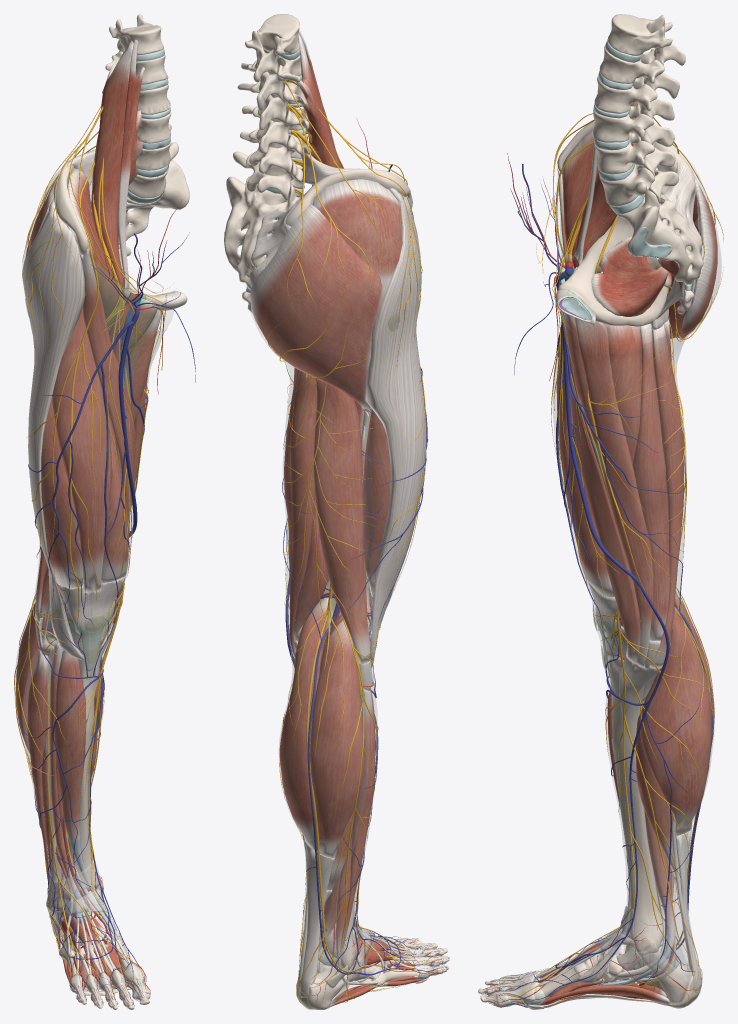
Rendered from lower-limb.glb.
The picture shows the model from 3 angles, left to right: view 1: azimuth 30°, elevation 25°; view 2: azimuth 150°, elevation 25°; view 3: azimuth 270°, elevation 25°; orthographic projection. The views are drawn at different scales.
Parts seen in each view (by area): view 1: Fascia lata.r, Crural fascia.r, Iliotibial tract.r, Rectus femoris.r, Psoas major.r, Tibialis anterior muscle.r, Vastus lateralis muscle.r, Sartorius muscle.r, Fibularis longus muscle.r, Quadriceps common tendon and patellar ligament.r, Femoral triangle.r, Vastus medialis muscle.r (+40 smaller); view 2: Fascia lata.r, Crural fascia.r, Gluteus maximus muscle.r, Iliotibial tract.r, Long head of biceps femoris.r, Lateral head of gastrocnemius.r, Gluteus medius muscle.r, Medial head of gastrocnemius.r, Gluteal aponeurosis.r, Semitendinosus muscle.r, Sacrum, Vastus lateralis muscle.r (+30 smaller); view 3: Fascia lata.r, Crural fascia.r, Medial head of gastrocnemius.r, Gracilis muscle.r, Semimembranosus muscle.r, Tibia.r, Sartorius muscle.r, Semitendinosus muscle.r, Hip bone.r, Obturator internus.r, Sacrum, Adductor magnus.r (+38 smaller).
Part boxes in pixels (bbox=[...]): Fascia lata.r: bbox=[22, 237, 174, 642]; Crural fascia.r: bbox=[14, 598, 111, 926]; Iliotibial tract.r: bbox=[22, 197, 85, 660]; Rectus femoris.r: bbox=[52, 308, 112, 593]; Psoas major.r: bbox=[91, 40, 142, 327]; Tibialis anterior muscle.r: bbox=[54, 650, 115, 929]; Vastus lateralis muscle.r: bbox=[41, 394, 83, 587]; Sartorius muscle.r: bbox=[79, 249, 135, 623]; Fibularis longus muscle.r: bbox=[27, 649, 64, 940]; Quadriceps common tendon and patellar ligament.r: bbox=[57, 576, 125, 671]; Femoral triangle.r: bbox=[92, 262, 159, 394]; Vastus medialis muscle.r: bbox=[101, 416, 128, 582]; Fascia lata.r: bbox=[245, 198, 420, 646]; Crural fascia.r: bbox=[279, 619, 377, 1004]; Gluteus maximus muscle.r: bbox=[250, 203, 383, 416]; Iliotibial tract.r: bbox=[365, 188, 426, 667]; Long head of biceps femoris.r: bbox=[313, 379, 370, 664]; Lateral head of gastrocnemius.r: bbox=[310, 619, 364, 858]; Gluteus medius muscle.r: bbox=[312, 179, 402, 296]; Medial head of gastrocnemius.r: bbox=[279, 597, 328, 850]; Gluteal aponeurosis.r: bbox=[313, 177, 401, 289]; Semitendinosus muscle.r: bbox=[289, 370, 317, 656]; Sacrum: bbox=[224, 176, 300, 289]; Vastus lateralis muscle.r: bbox=[362, 409, 390, 596]; Fascia lata.r: bbox=[552, 153, 721, 655]; Crural fascia.r: bbox=[600, 589, 714, 990]; Medial head of gastrocnemius.r: bbox=[640, 610, 711, 835]; Gracilis muscle.r: bbox=[575, 318, 653, 666]; Semimembranosus muscle.r: bbox=[632, 323, 677, 640]; Tibia.r: bbox=[609, 658, 667, 955]; Sartorius muscle.r: bbox=[557, 168, 640, 662]; Semitendinosus muscle.r: bbox=[650, 324, 684, 667]; Hip bone.r: bbox=[557, 121, 694, 326]; Obturator internus.r: bbox=[591, 236, 668, 316]; Sacrum: bbox=[616, 168, 703, 284]; Adductor magnus.r: bbox=[604, 323, 641, 464].
Size of the model in its own units: 0.2236 by 1.16 by 0.2525.
65 materials, 13 textured.
